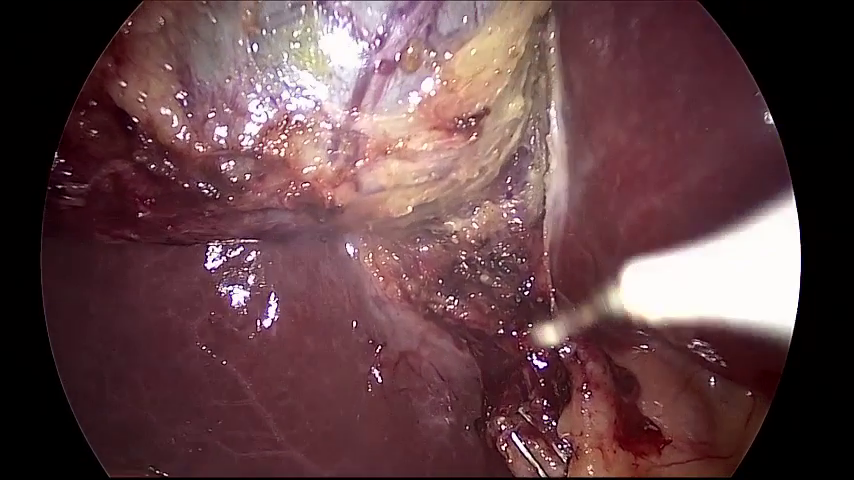lhook: (529, 195, 803, 353)
